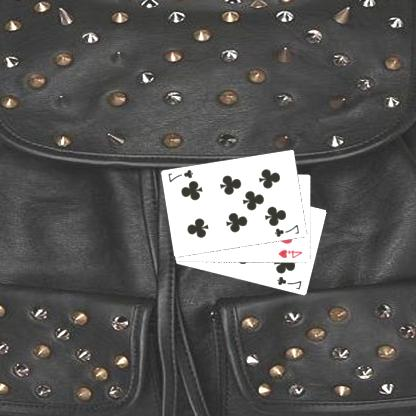4H: (278, 247, 306, 260)
7C: (276, 274, 305, 292), (274, 222, 302, 238), (168, 167, 196, 183)
